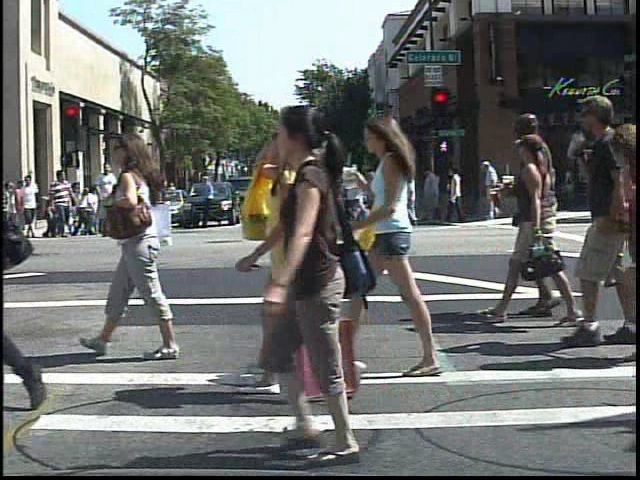person: (262, 105, 398, 469), (350, 109, 493, 386), (230, 115, 355, 397), (93, 121, 192, 364), (563, 79, 624, 351), (48, 164, 78, 241), (478, 156, 505, 225), (16, 170, 40, 242), (95, 160, 120, 211), (100, 178, 120, 220), (163, 175, 182, 211)
